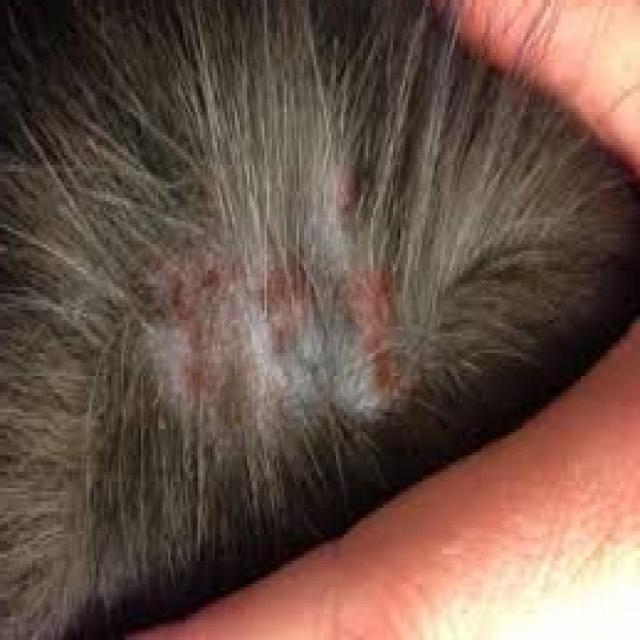allergic dermatitis: (116, 149, 402, 444)
